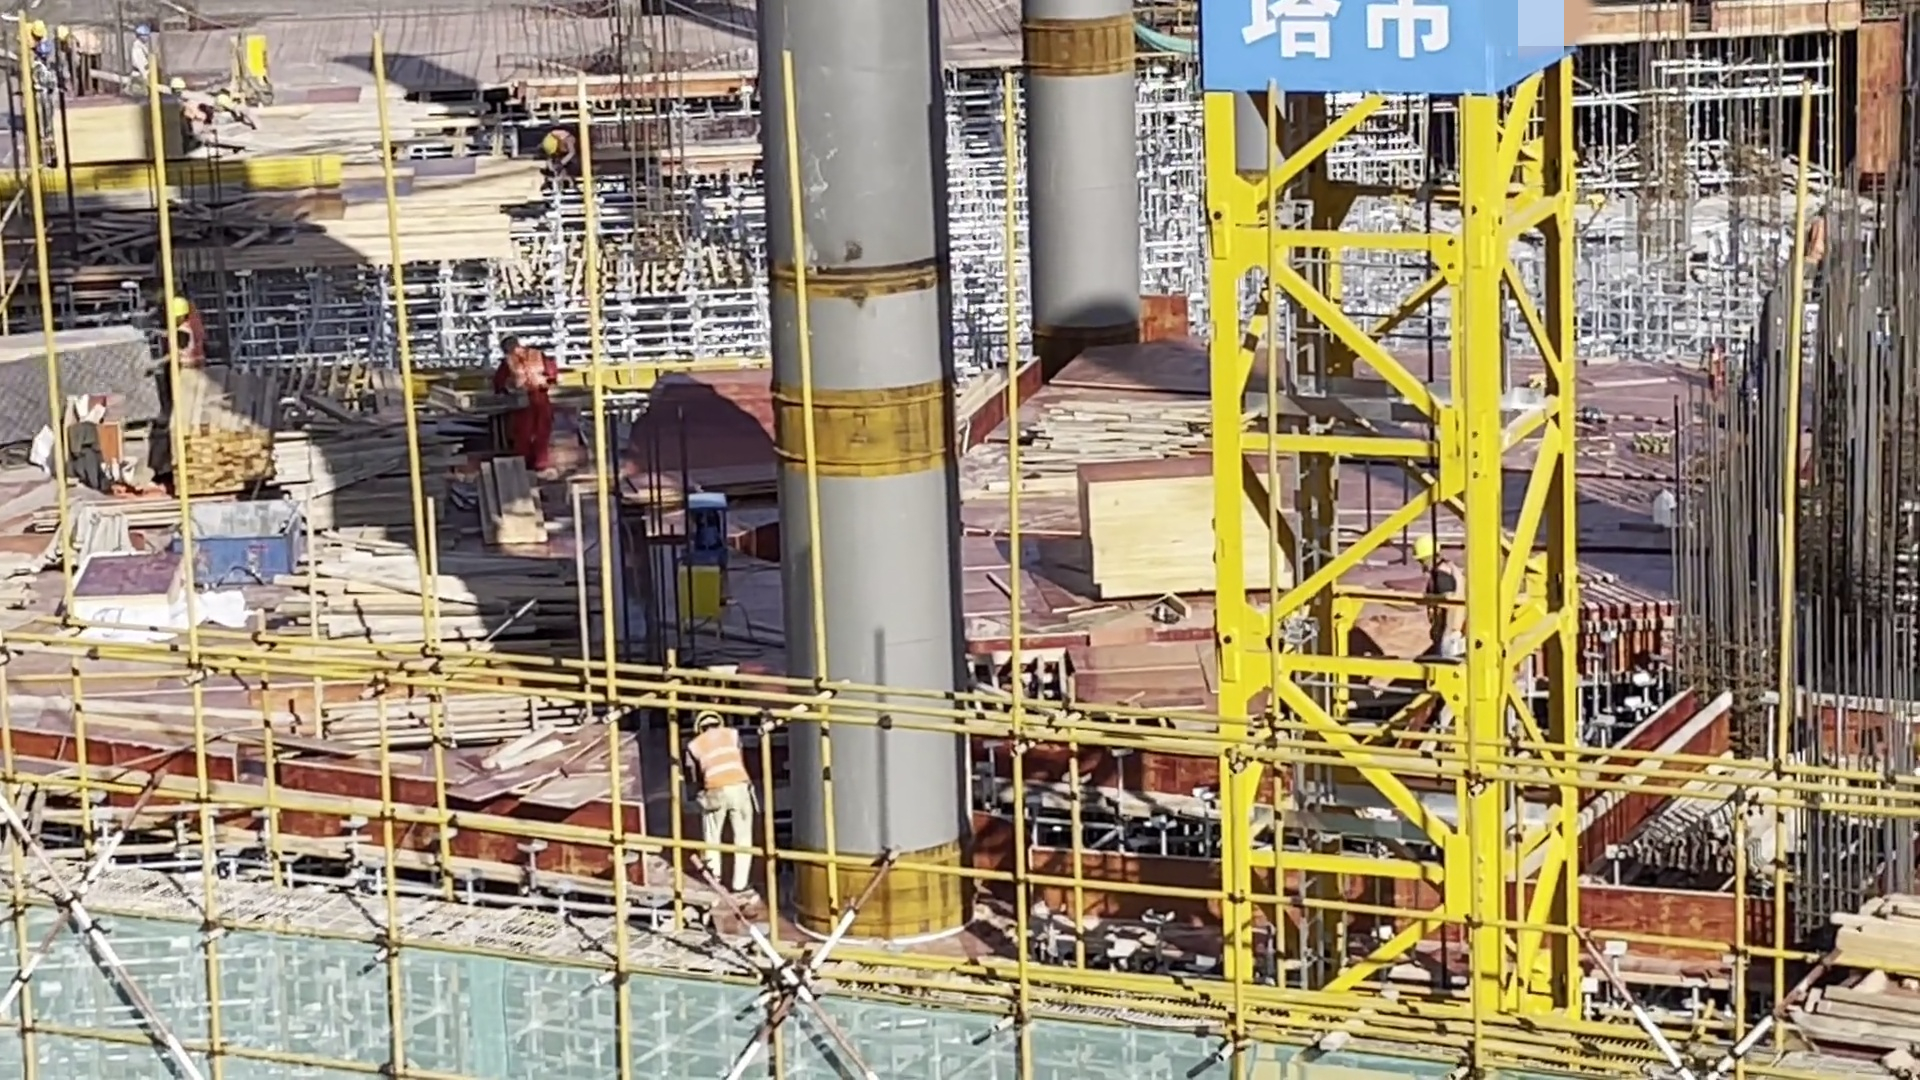board: (1056, 442, 1293, 612), (1, 311, 165, 429), (51, 92, 211, 176)
cutter: (599, 456, 726, 622)
ebox: (668, 559, 741, 641), (236, 36, 296, 111)
helmet: (691, 706, 729, 729), (1411, 537, 1451, 559), (169, 292, 196, 322), (496, 332, 524, 354), (536, 131, 559, 152), (31, 20, 48, 41), (41, 36, 54, 57), (174, 79, 188, 98), (61, 21, 74, 39), (126, 25, 152, 34)
hopper: (173, 499, 318, 591)
person: (684, 703, 763, 880), (1404, 533, 1489, 663), (506, 330, 559, 468), (166, 296, 211, 370), (61, 15, 99, 94), (1809, 178, 1837, 283), (133, 13, 164, 91), (29, 20, 55, 103), (174, 71, 204, 110), (545, 132, 574, 166)
vest: (683, 721, 746, 784), (511, 344, 564, 417), (1428, 562, 1473, 646), (163, 317, 204, 362), (1810, 211, 1825, 268), (555, 128, 579, 162), (34, 64, 52, 104), (132, 45, 149, 76), (193, 87, 209, 121)
wood: (329, 551, 558, 634), (294, 427, 471, 519), (138, 407, 299, 494)
